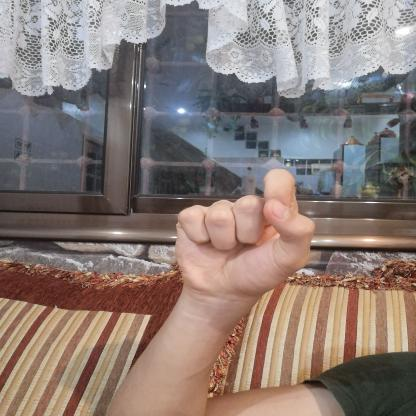FAA: (160, 162, 322, 307)
